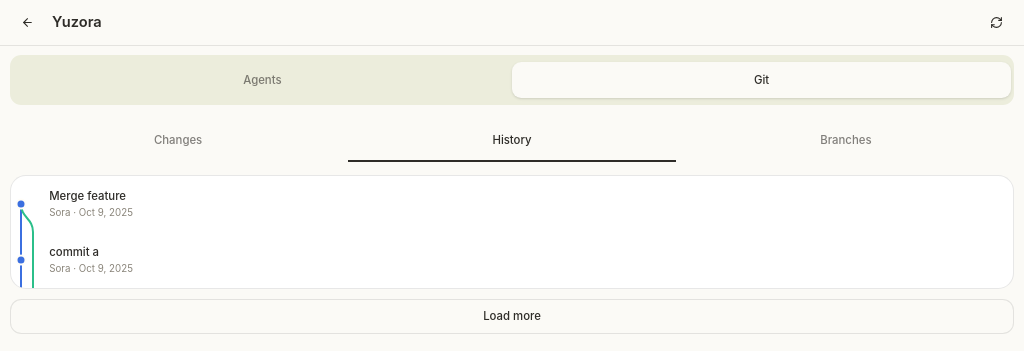
it: Git history › keeps the loaded pages across views and starts over only on refresh
Expected: the text "Merge feature" is shown, [49,189,126,203]
Press the mouse on the tab "Changes" at [178, 140], box [13,122,344,158]
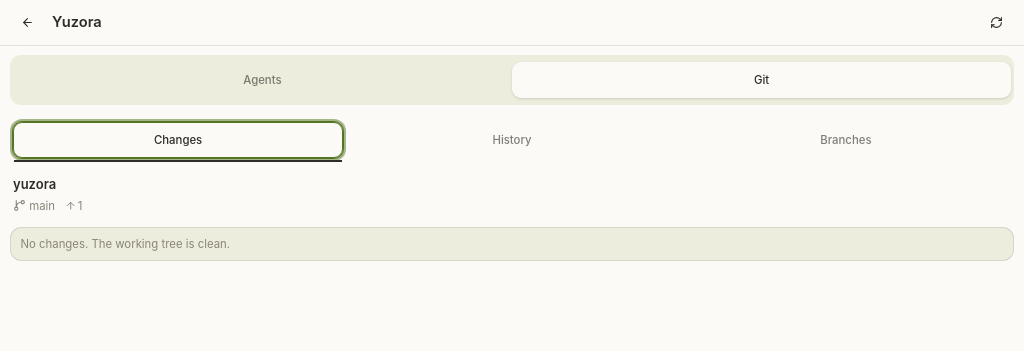
Result: the text "yuzora" is shown at [13,176,56,192]
Press the mouse on the tab "History" at [512, 140], box [347,122,677,158]
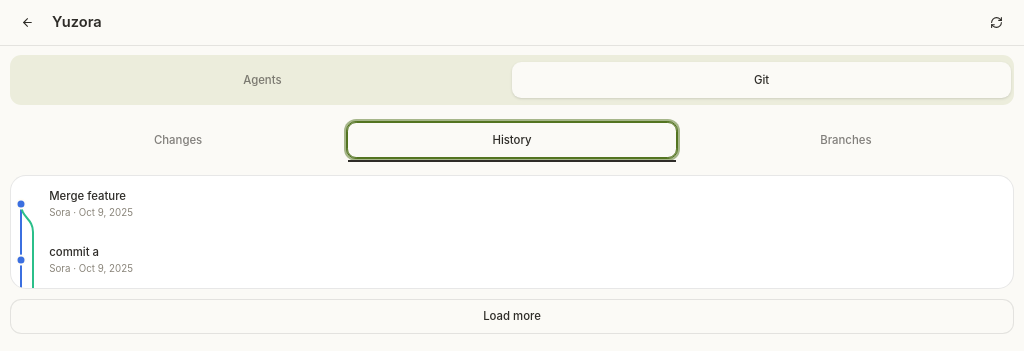
Result: the text "Merge feature" is shown at [49,189,126,203]
Click the button named "Refresh Git" at [996, 22], box [978,4,1014,40]
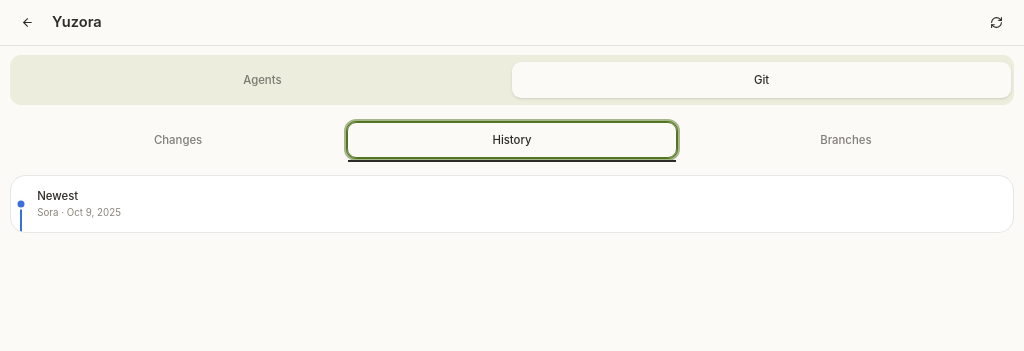
Result: the text "Newest" is shown at [37,189,78,203]
Result: the button "Merge feature" is gone
